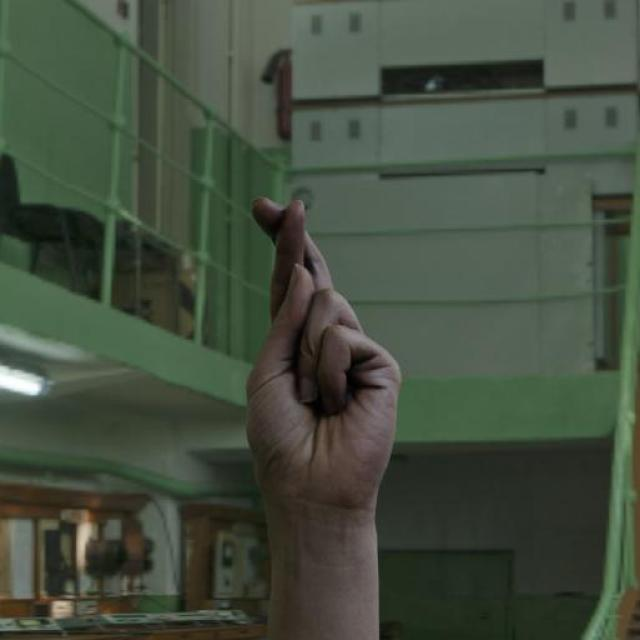R: (237, 188, 408, 526)
